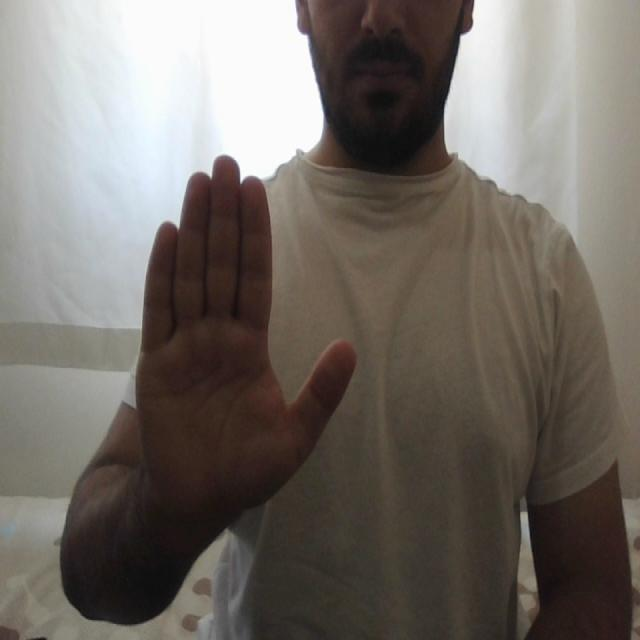Dur: (116, 147, 360, 529)
